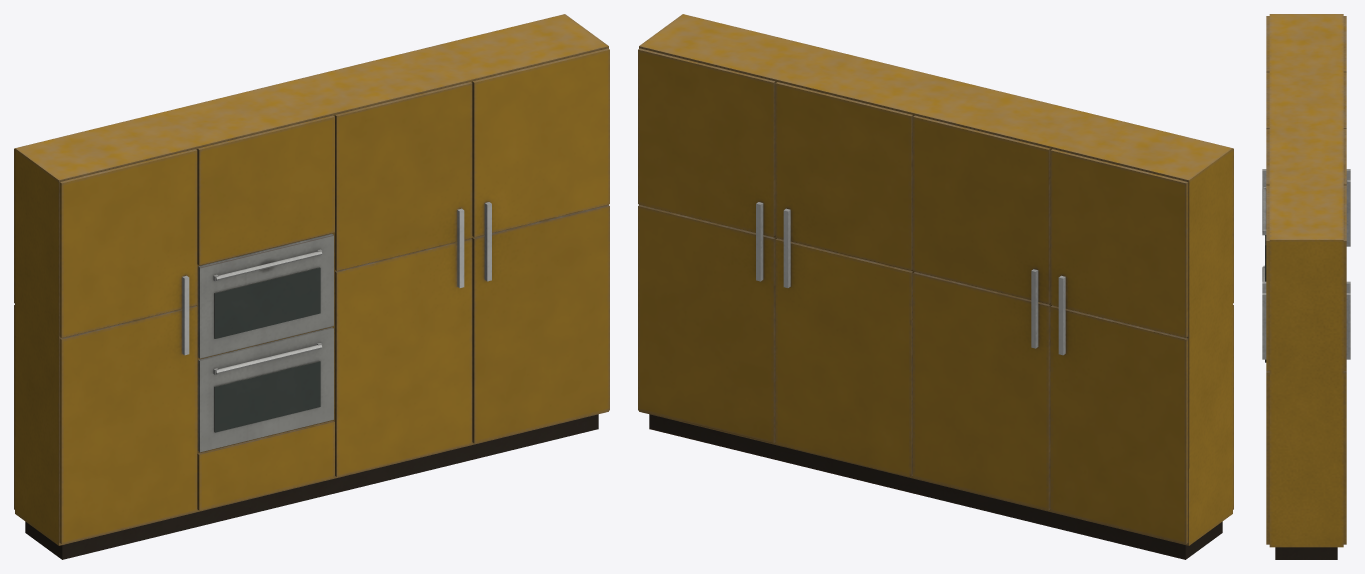
The model's file is H_OvenWall.fbx.
3 renders of one model, left to right at view 1: azimuth 30°, elevation 25°; view 2: azimuth 150°, elevation 25°; view 3: azimuth 270°, elevation 25°, orthographic. The views are drawn at different scales.
Parts seen in each view (by area): view 1: H_OvenWall; view 2: H_OvenWall; view 3: H_OvenWall.
Part boxes in pixels (x1,y1,x2,y2): H_OvenWall: (14,14,609,559); H_OvenWall: (638,14,1233,559); H_OvenWall: (1262,14,1350,559).
Size of the model in its own units: 1200 by 800 by 199.
1 material, 1 textured.
